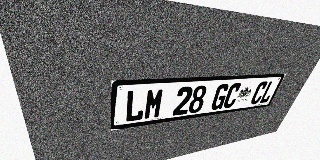2: (172, 86, 194, 116)
8: (187, 85, 209, 114)
C: (222, 83, 242, 109), (249, 81, 269, 105)
G: (209, 83, 231, 110)
L: (124, 89, 146, 123), (258, 80, 278, 103)
M: (143, 88, 165, 120)
